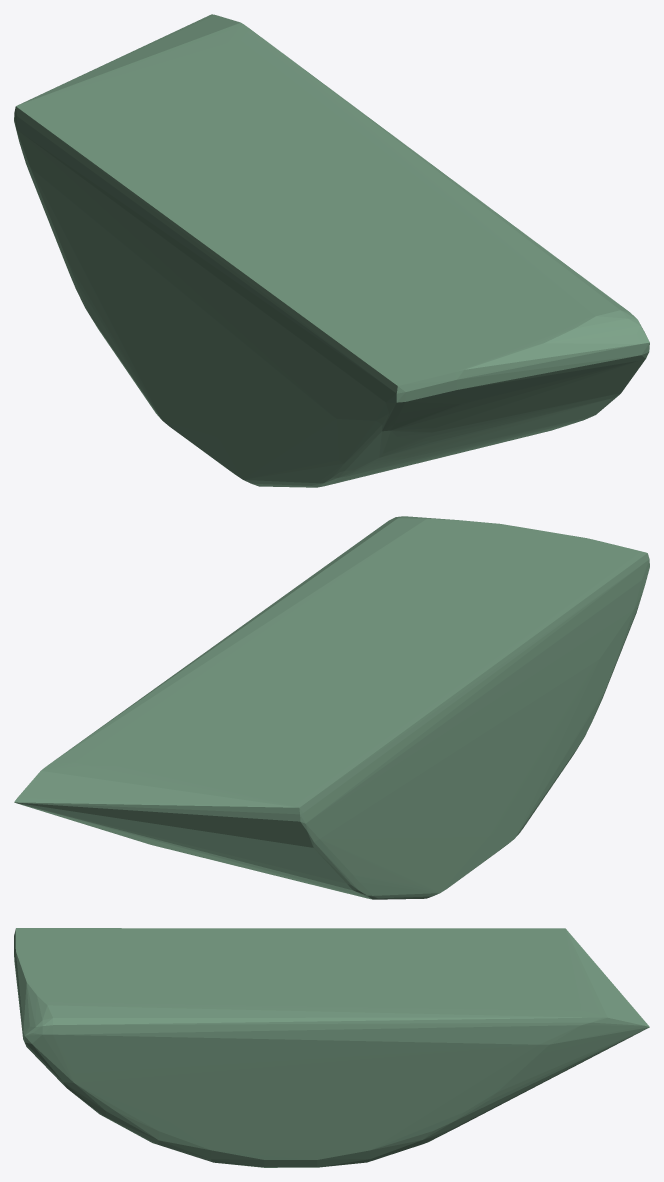
Rendered from left-hip-roll-0_part_0.obj.
The picture shows the model from 3 angles, top to bottom: view 1: azimuth 30°, elevation 25°; view 2: azimuth 150°, elevation 25°; view 3: azimuth 270°, elevation 25°; orthographic projection. The views are drawn at different scales.
Size of the model in its own units: 0.0262 by 0.0198 by 0.0744.
